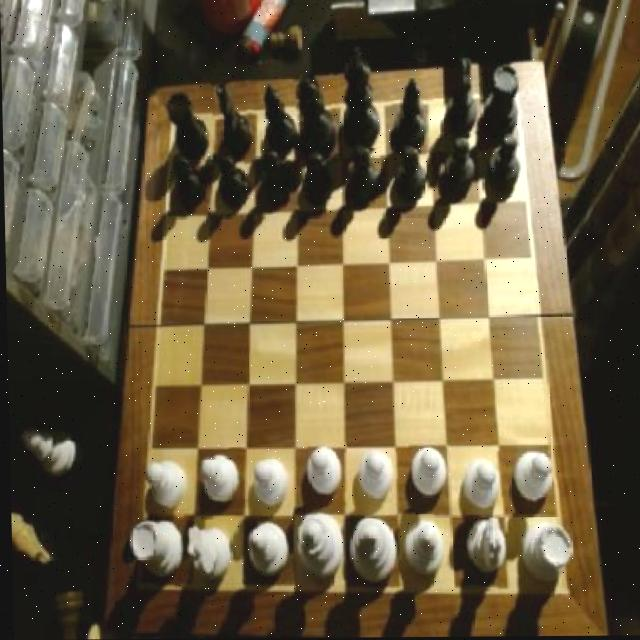bishop: (391, 76, 435, 150), (257, 83, 296, 153)
black-bishop: (336, 44, 384, 149)
black-king: (212, 77, 255, 155), (444, 54, 481, 137)
black-knight: (169, 151, 212, 211), (301, 151, 340, 211), (392, 145, 427, 205), (255, 152, 289, 211), (215, 151, 252, 204), (349, 142, 381, 203), (487, 131, 520, 190), (442, 136, 476, 192)
black-pawn: (295, 72, 339, 160)
black-queen: (165, 90, 211, 161), (480, 66, 524, 138)
black-rook: (240, 517, 291, 587), (397, 516, 449, 584)
white-bishop: (292, 509, 347, 582)
white-king: (186, 517, 236, 591), (463, 517, 511, 591)
white-knight: (142, 456, 191, 521), (513, 446, 559, 512), (199, 448, 245, 511), (459, 452, 503, 515), (349, 450, 396, 507), (249, 454, 293, 513), (305, 443, 347, 502), (408, 445, 447, 504)
white-pawn: (345, 518, 396, 586)
white-queen: (124, 513, 183, 591), (518, 521, 574, 590)
